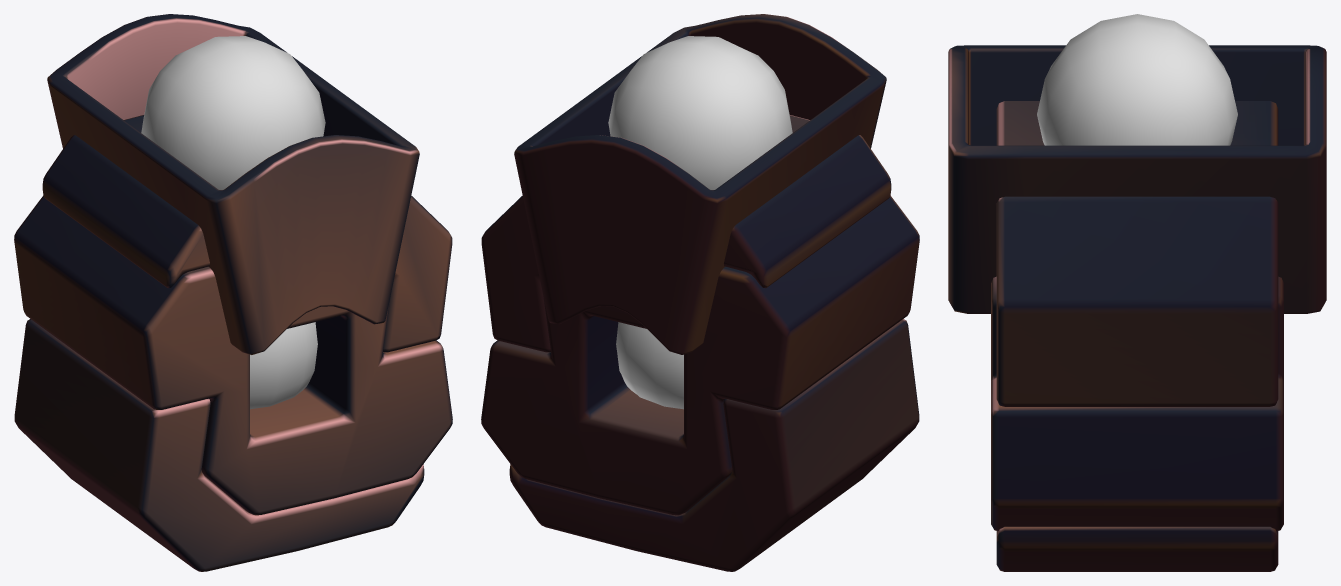
File: Stagelight_Square_Red.fbx
3 renders of one model, left to right at view 1: azimuth 30°, elevation 25°; view 2: azimuth 150°, elevation 25°; view 3: azimuth 270°, elevation 25°, orthographic. The views are drawn at different scales.
Parts seen in each view (by area): view 1: Housing, Bulb; view 2: Housing, Bulb; view 3: Housing, Bulb.
Part boxes in pixels (x1,y1,x2,y2): Housing: (14,14,452,571); Bulb: (141,36,325,409); Housing: (481,14,919,571); Bulb: (608,36,792,409); Housing: (948,45,1326,571); Bulb: (1037,14,1237,145).
Size of the model in its own units: 78.01 by 110 by 75.2.
